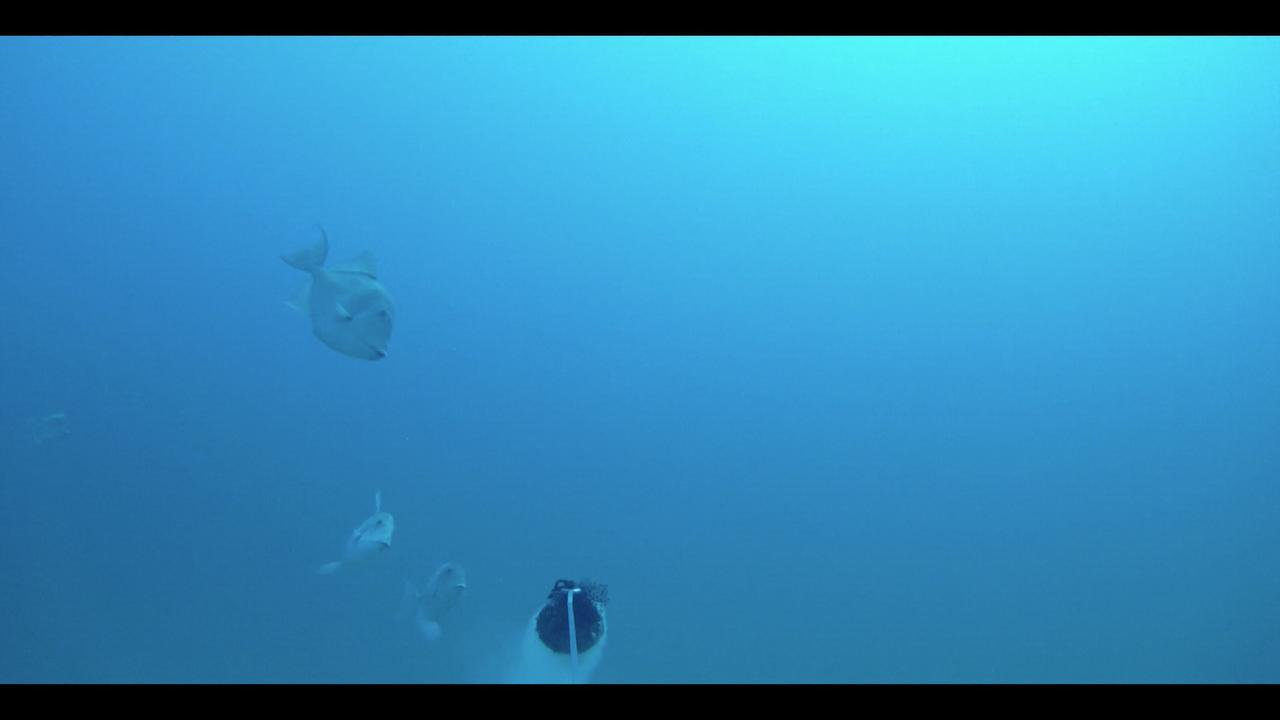balistes: (261, 220, 395, 359), (319, 490, 398, 582), (394, 552, 468, 642)
